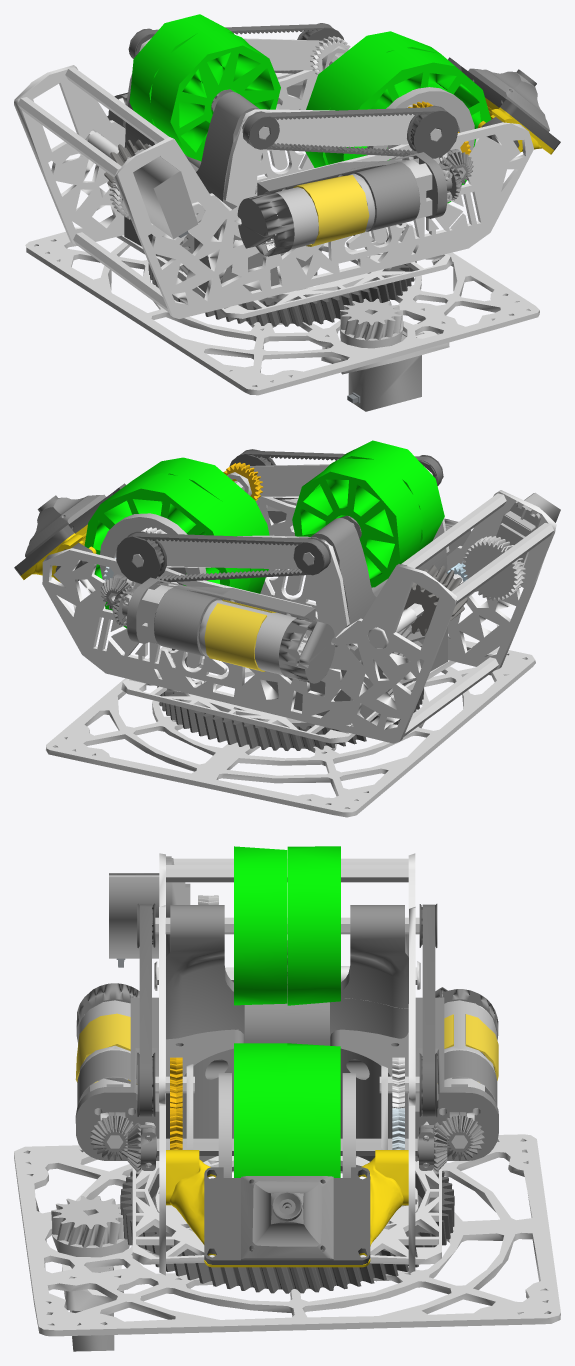
Rendered from turret.glb.
3 views of the same model, one above another, from view 1: azimuth 30°, elevation 25°; view 2: azimuth 150°, elevation 25°; view 3: azimuth 270°, elevation 25° (orthographic). The views are drawn at different scales.
Visible parts, largest first — view 1: turret_4, turret_8, turret_6, turret_1, turret_7, turret_13, turret_5, turret_2, turret_10, turret_0, turret_3, turret_15 (+1 smaller); view 2: turret_4, turret_6, turret_8, turret_1, turret_7, turret_5, turret_2, turret_10, turret_0, turret_13, turret_9, turret_15 (+2 smaller); view 3: turret_1, turret_8, turret_6, turret_7, turret_4, turret_2, turret_5, turret_15, turret_10, turret_0, turret_13, turret_12 (+2 smaller).
Boxes of the visible parts, x1=… form: turret_4: x1=14, y1=38, x2=533, y2=374; turret_8: x1=17, y1=67, x2=539, y2=395; turret_6: x1=129, y1=14, x2=490, y2=203; turret_1: x1=107, y1=68, x2=549, y2=292; turret_7: x1=128, y1=23, x2=560, y2=326; turret_13: x1=126, y1=144, x2=421, y2=411; turret_5: x1=275, y1=46, x2=441, y2=246; turret_2: x1=275, y1=87, x2=474, y2=249; turret_10: x1=130, y1=24, x2=446, y2=157; turret_0: x1=109, y1=119, x2=452, y2=348; turret_3: x1=85, y1=36, x2=350, y2=214; turret_15: x1=478, y1=97, x2=554, y2=154; turret_4: x1=42, y1=464, x2=556, y2=743; turret_6: x1=84, y1=440, x2=444, y2=628; turret_8: x1=46, y1=493, x2=553, y2=817; turret_1: x1=25, y1=494, x2=471, y2=719; turret_7: x1=14, y1=449, x2=443, y2=750; turret_5: x1=132, y1=472, x2=297, y2=671; turret_2: x1=99, y1=513, x2=296, y2=675; turret_10: x1=127, y1=450, x2=442, y2=582; turret_0: x1=122, y1=536, x2=525, y2=626; turret_13: x1=496, y1=492, x2=560, y2=567; turret_9: x1=404, y1=565, x2=467, y2=635; turret_15: x1=20, y1=524, x2=96, y2=582; turret_1: x1=75, y1=905, x2=498, y2=1260; turret_8: x1=14, y1=858, x2=560, y2=1336; turret_6: x1=234, y1=846, x2=340, y2=1177; turret_7: x1=120, y1=903, x2=454, y2=1293; turret_4: x1=61, y1=853, x2=486, y2=1310; turret_2: x1=78, y1=1000, x2=496, y2=1177; turret_5: x1=75, y1=1013, x2=498, y2=1149; turret_15: x1=166, y1=1150, x2=408, y2=1267; turret_10: x1=139, y1=904, x2=435, y2=1116; turret_0: x1=51, y1=895, x2=474, y2=1257; turret_13: x1=70, y1=856, x2=190, y2=1351; turret_12: x1=170, y1=1057, x2=182, y2=1149.
Size of the model in its own units: 0.3227 by 0.2196 by 0.2609.
